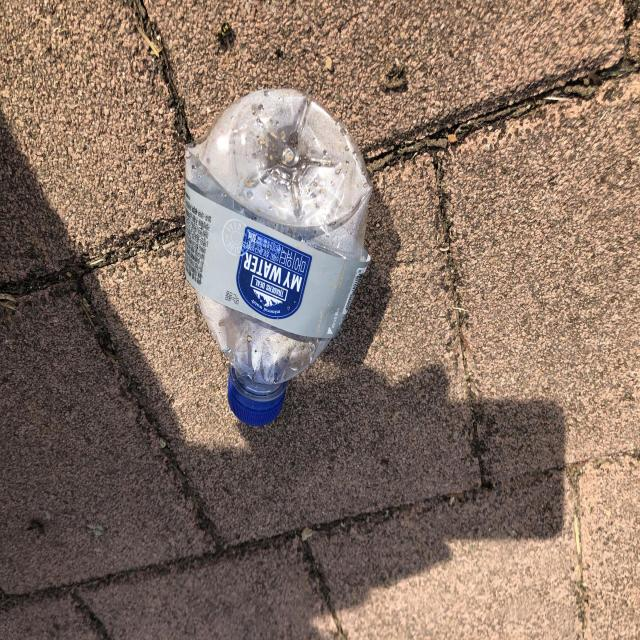plastic: (184, 88, 372, 426)
